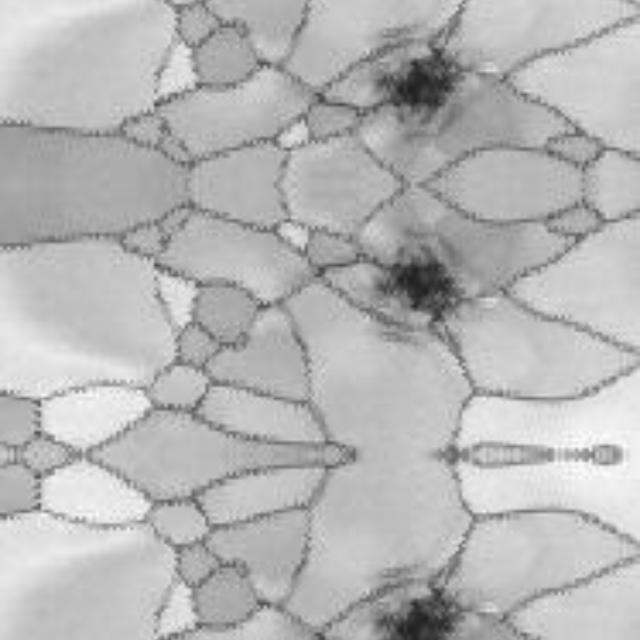good_void: (362, 213, 482, 332), (362, 36, 482, 155), (371, 584, 461, 640)
